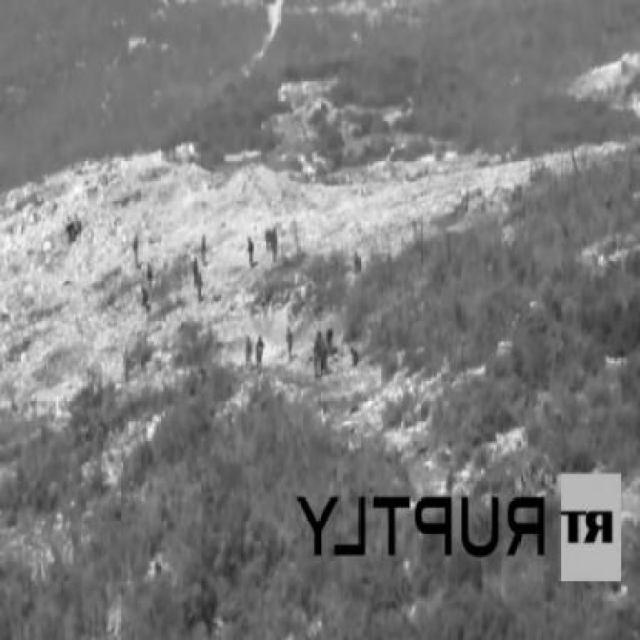Person: (256, 335, 270, 370), (272, 227, 284, 263), (246, 329, 257, 367), (247, 233, 258, 267), (288, 326, 297, 360), (201, 231, 209, 265)
